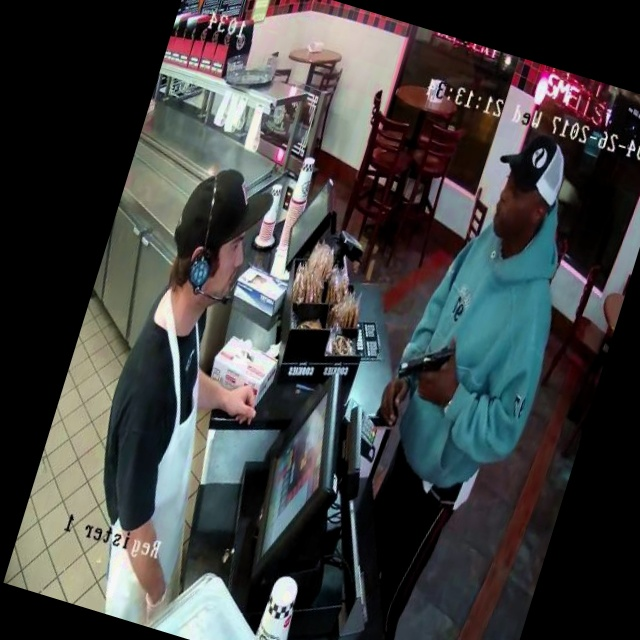gun: (378, 319, 473, 409)
